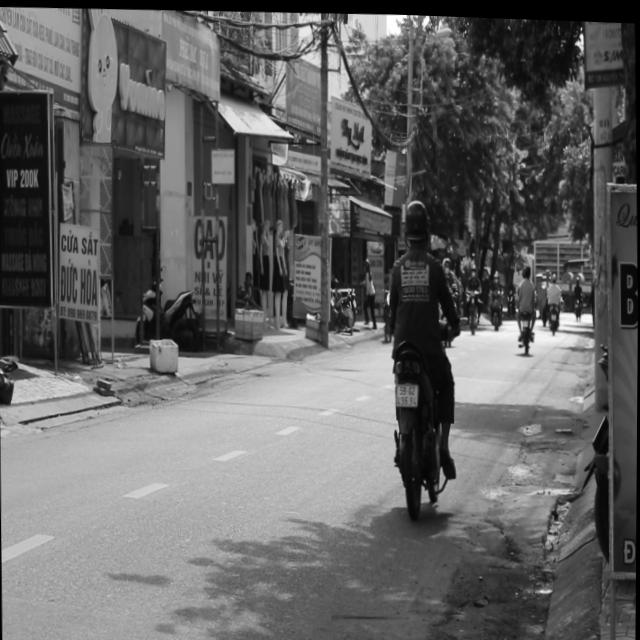helmet: (400, 193, 429, 245)
licenseplate: (379, 189, 462, 512)
nohelmet: (394, 378, 416, 401)
